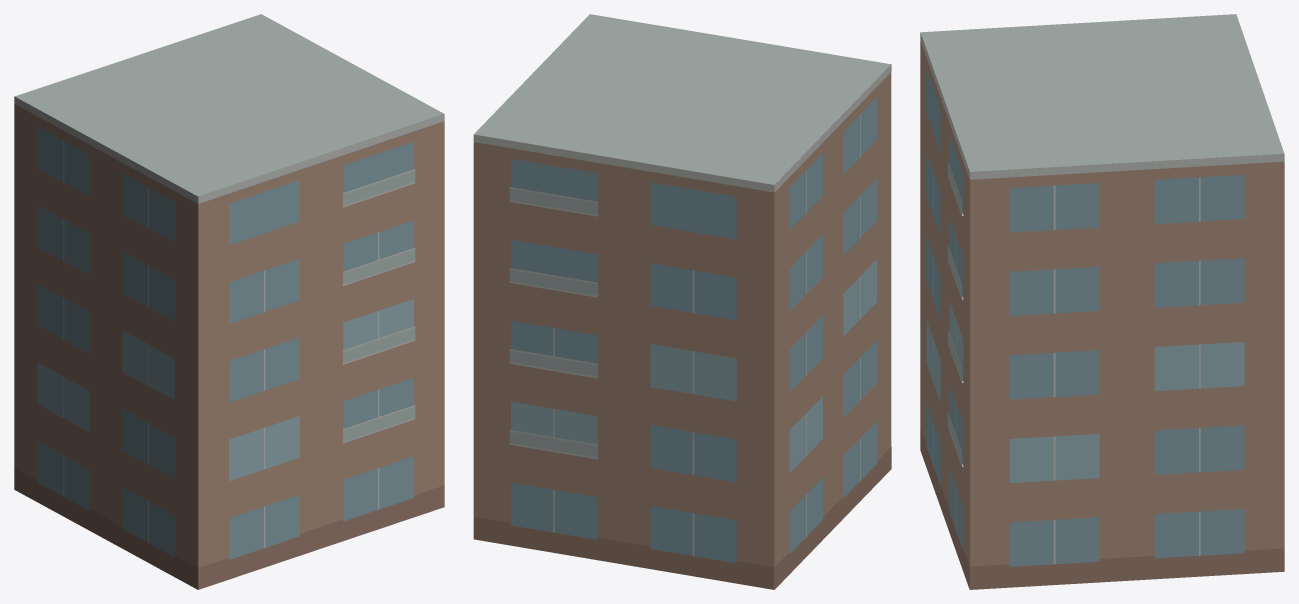
File: survey-upis-32640835.glb
3 views of the same model, side by side, from view 1: azimuth 30°, elevation 25°; view 2: azimuth 150°, elevation 25°; view 3: azimuth 270°, elevation 25° (orthographic). The views are drawn at different scales.
Parts seen in each view (by area): view 1: survey-upis-32640835.tmp; view 2: survey-upis-32640835.tmp; view 3: survey-upis-32640835.tmp.
Boxes of the visible parts, <box> form: survey-upis-32640835.tmp: <box>14,14,444,589</box>; survey-upis-32640835.tmp: <box>473,14,891,589</box>; survey-upis-32640835.tmp: <box>920,14,1284,589</box>.
Bounding box in the file's own units: 10.63 × 13.1 × 10.36.
